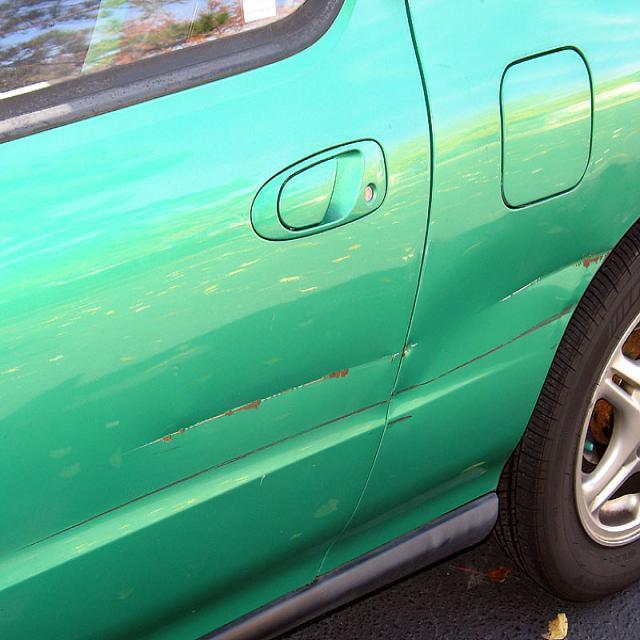scratch: (106, 334, 427, 471), (468, 242, 624, 306)
